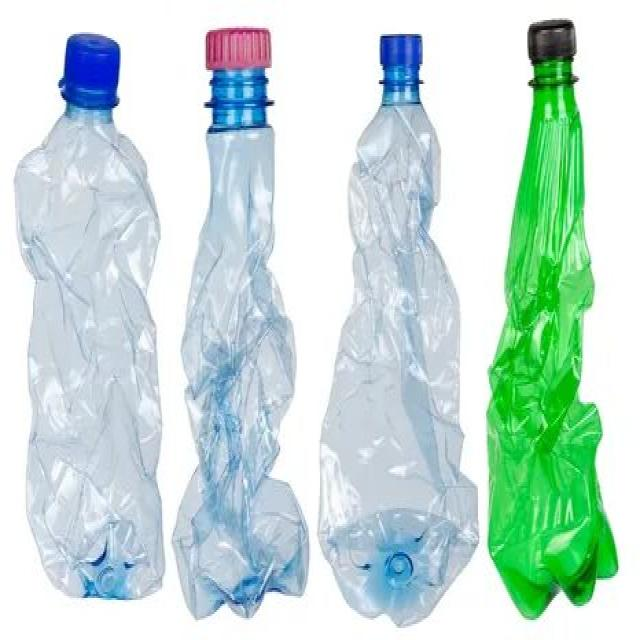blue: (320, 67, 478, 628), (172, 65, 310, 622), (14, 92, 165, 598)
green: (486, 58, 620, 622)
